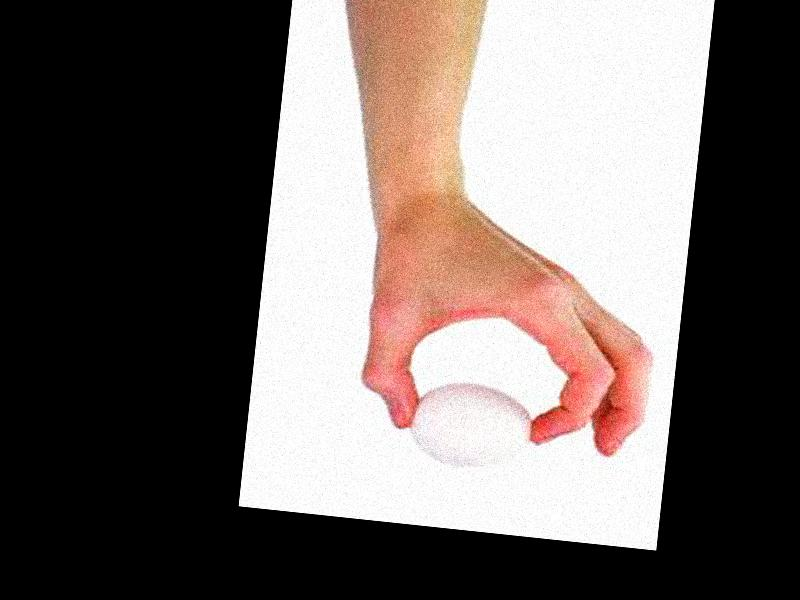Eggs: (407, 377, 536, 474)
